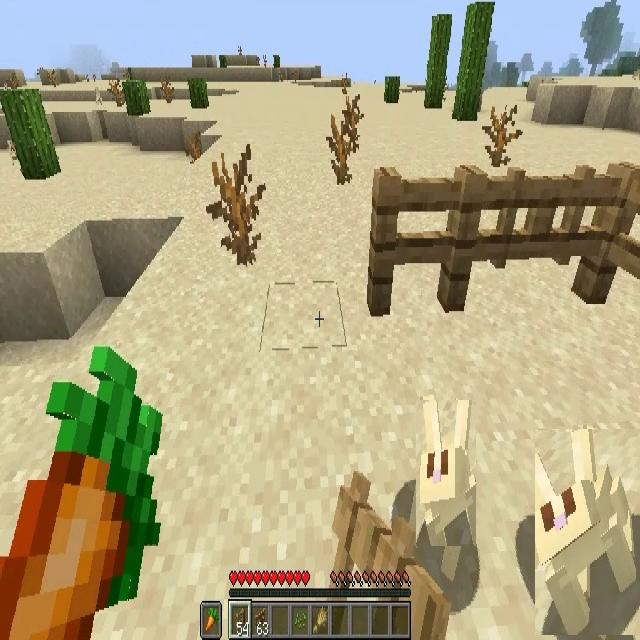rabbit: (535, 429, 640, 635), (416, 401, 476, 546)
